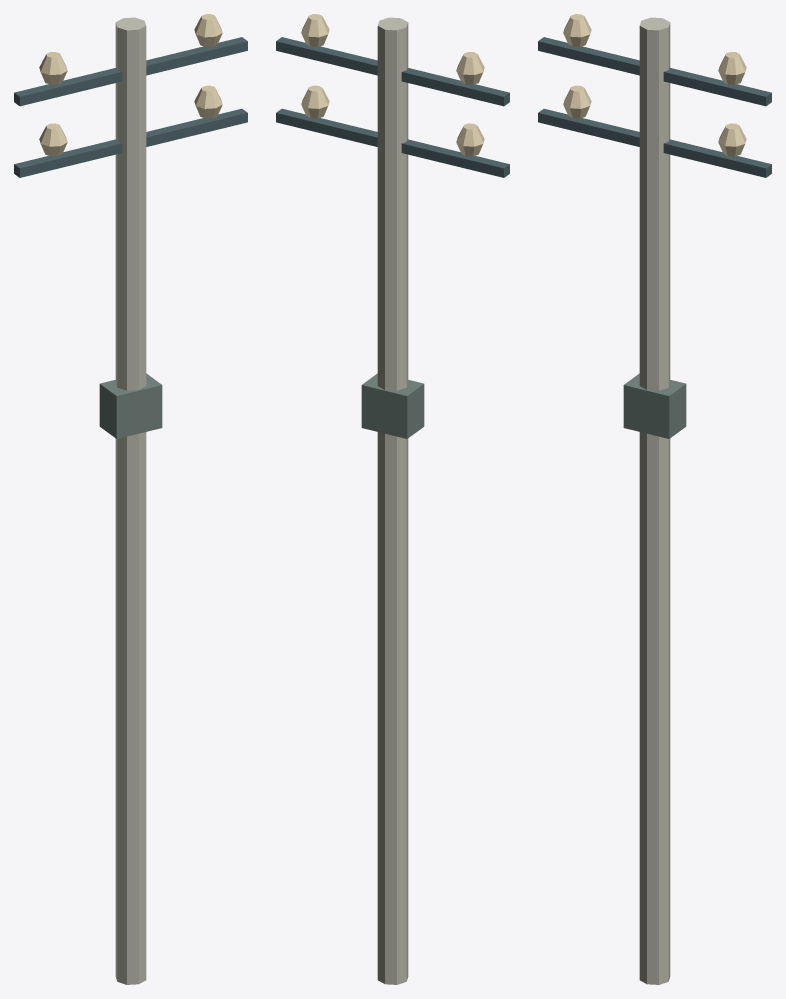
File: KOL_HBR_PROP_03.fbx
The picture shows the model from 3 angles, left to right: view 1: azimuth 30°, elevation 25°; view 2: azimuth 150°, elevation 25°; view 3: azimuth 330°, elevation 25°; orthographic projection.
Visible parts, largest first — view 1: KOL_HBR_PROP_03__Model__Concrete, KOL_HBR_PROP_03__Model__DarkSteel, KOL_HBR_PROP_03__Model__Roof, KOL_HBR_PROP_03__Model__Cream; view 2: KOL_HBR_PROP_03__Model__Concrete, KOL_HBR_PROP_03__Model__DarkSteel, KOL_HBR_PROP_03__Model__Roof, KOL_HBR_PROP_03__Model__Cream; view 3: KOL_HBR_PROP_03__Model__Concrete, KOL_HBR_PROP_03__Model__DarkSteel, KOL_HBR_PROP_03__Model__Roof, KOL_HBR_PROP_03__Model__Cream.
Part boxes in pixels (x1,y1,x2,y2): KOL_HBR_PROP_03__Model__Concrete: [115, 17, 146, 984]; KOL_HBR_PROP_03__Model__DarkSteel: [14, 37, 247, 177]; KOL_HBR_PROP_03__Model__Roof: [99, 373, 162, 438]; KOL_HBR_PROP_03__Model__Cream: [39, 14, 222, 156]; KOL_HBR_PROP_03__Model__Concrete: [377, 17, 408, 984]; KOL_HBR_PROP_03__Model__DarkSteel: [276, 37, 509, 177]; KOL_HBR_PROP_03__Model__Roof: [361, 373, 424, 438]; KOL_HBR_PROP_03__Model__Cream: [301, 14, 484, 156]; KOL_HBR_PROP_03__Model__Concrete: [639, 17, 670, 984]; KOL_HBR_PROP_03__Model__DarkSteel: [538, 37, 771, 177]; KOL_HBR_PROP_03__Model__Roof: [623, 373, 686, 438]; KOL_HBR_PROP_03__Model__Cream: [563, 14, 746, 156].
Bounding box in the file's own units: 5 × 20 × 0.65.
